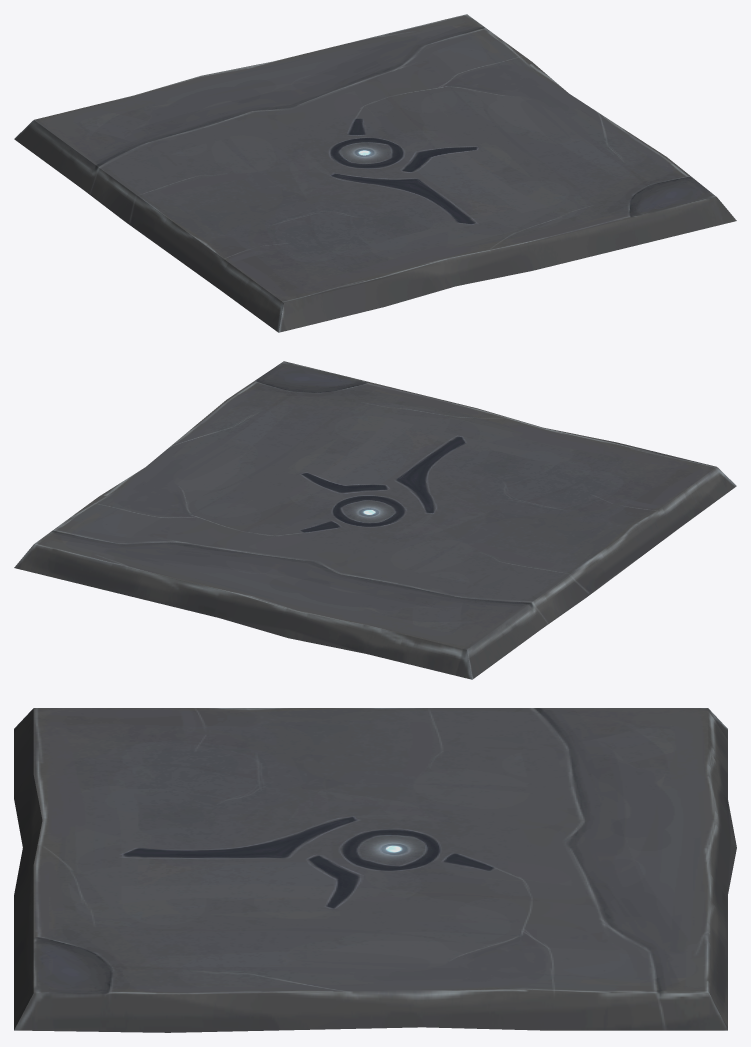
File: Tile01.FBX
3 renders of one model, top to bottom at view 1: azimuth 30°, elevation 25°; view 2: azimuth 150°, elevation 25°; view 3: azimuth 270°, elevation 25°, orthographic. The views are drawn at different scales.
Parts seen in each view (by area): view 1: Tile01; view 2: Tile01; view 3: Tile01.
Part boxes in pixels (left/top/right/bottom): Tile01: left=14, top=14, right=736, bottom=332; Tile01: left=14, top=361, right=736, bottom=679; Tile01: left=14, top=708, right=736, bottom=1032.
Size of the model in its own units: 50.8 by 2.25 by 50.9.
